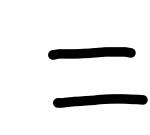eqv: (48, 47, 148, 108)
